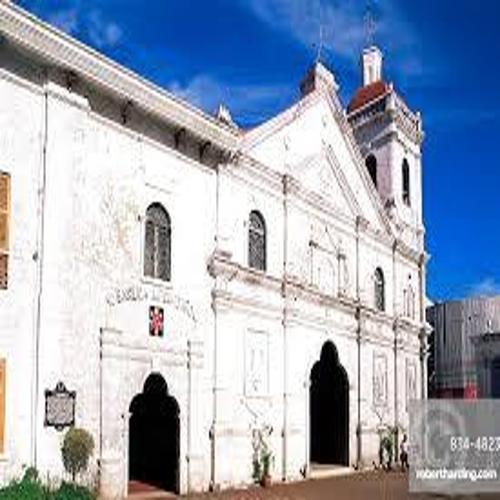Sto. Nino Basilica Church: (205, 20, 438, 482)
